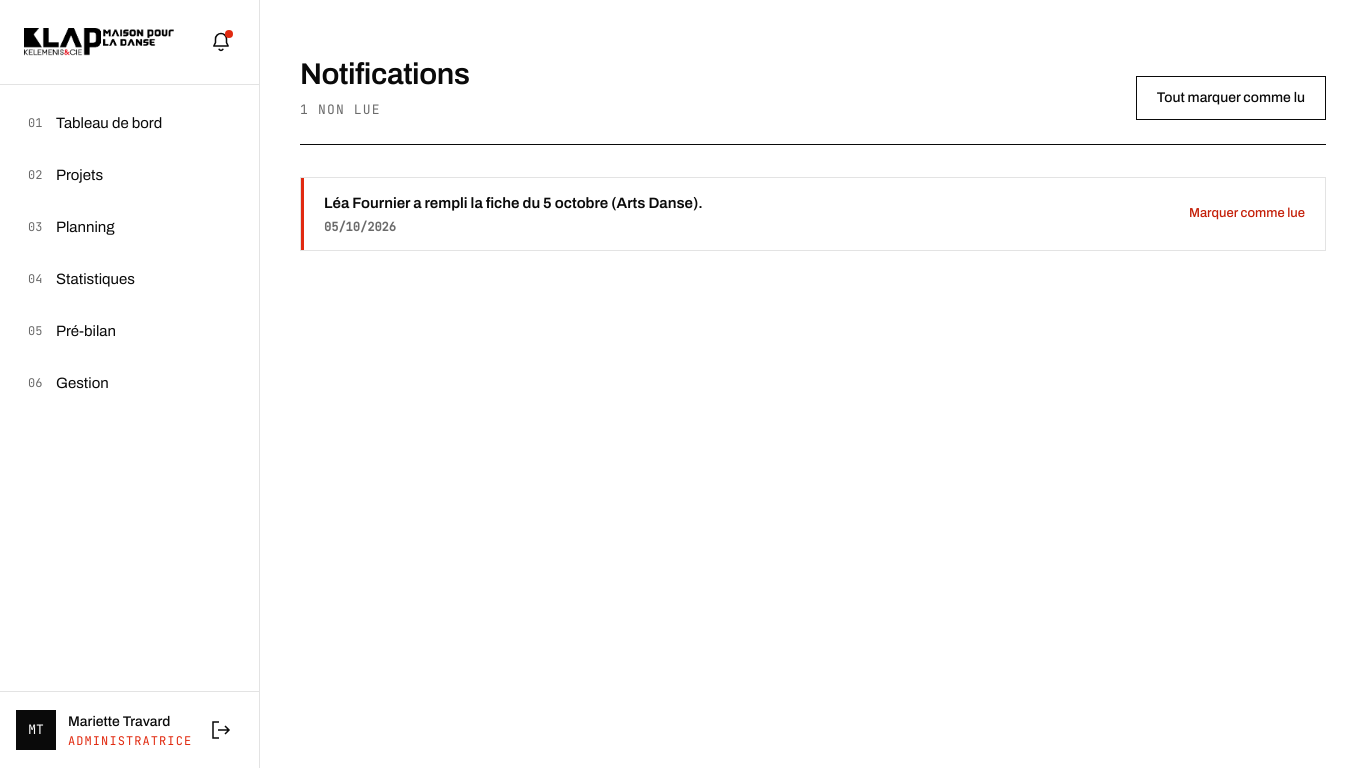
Page Notifications › n’envoie qu’une lecture sur un double clic
Double-click the button named "Marquer comme lue": (353, 202) [301,178,1325,250]
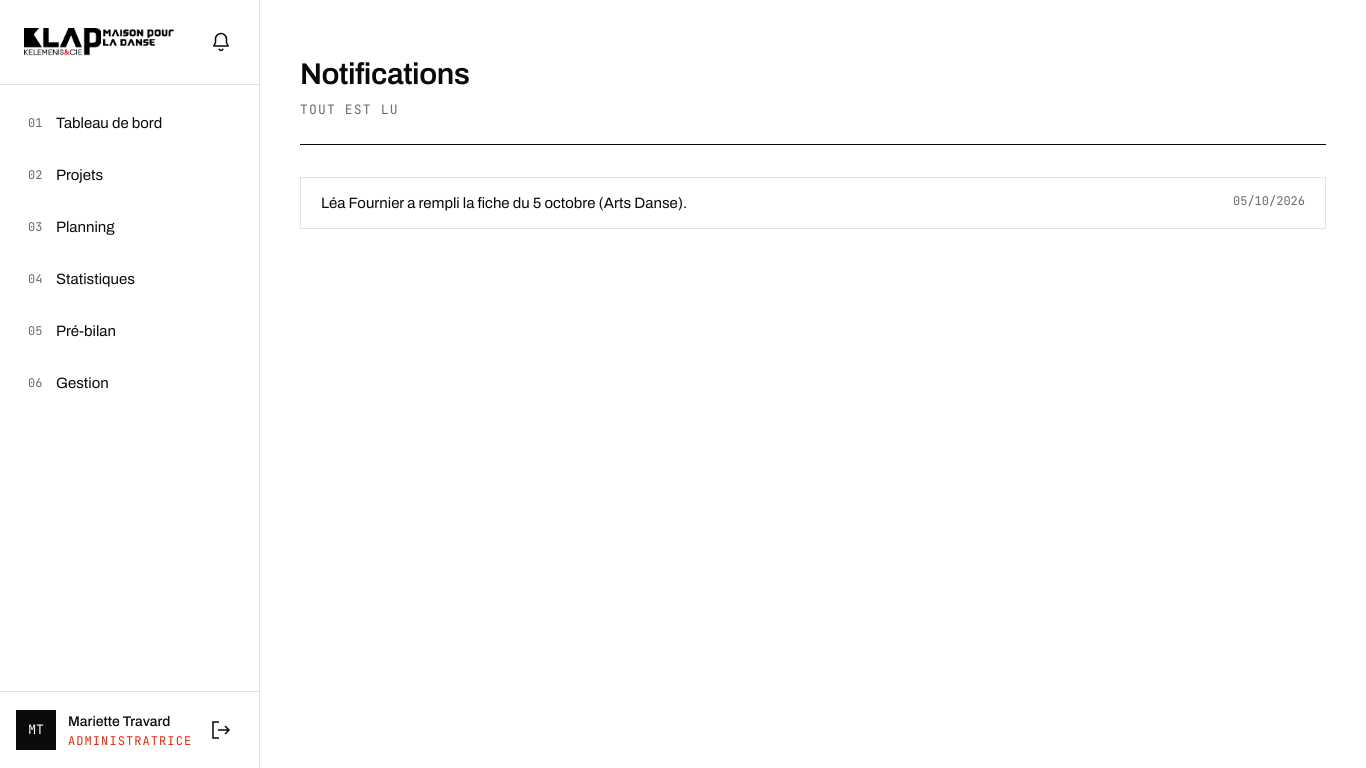
Now the text "Tout est lu" is shown, box [300,101,399,118]
